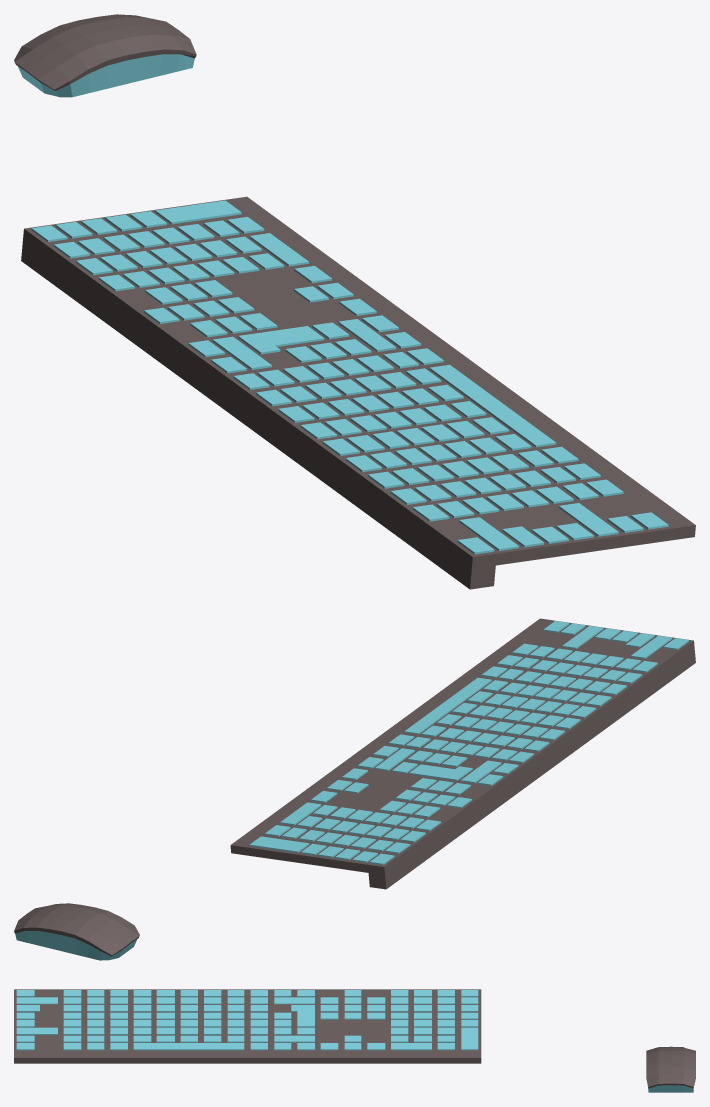
Rendered from klavye_fare.fbx.
3 views of the same model, one above another, from view 1: azimuth 30°, elevation 25°; view 2: azimuth 150°, elevation 25°; view 3: azimuth 270°, elevation 25° (orthographic). The views are drawn at different scales.
Visible parts, largest first — view 1: Cube.014, Cube.015; view 2: Cube.014, Cube.015; view 3: Cube.014, Cube.015.
Boxes of the visible parts, left/top/right/bottom form: Cube.014: left=21, top=196, right=695, bottom=589; Cube.015: left=14, top=14, right=196, bottom=97; Cube.014: left=230, top=618, right=695, bottom=889; Cube.015: left=14, top=903, right=139, bottom=960; Cube.014: left=14, top=989, right=481, bottom=1063; Cube.015: left=646, top=1046, right=695, bottom=1092.
Size of the model in its own units: 0.3402 by 0.0371 by 1.14.
